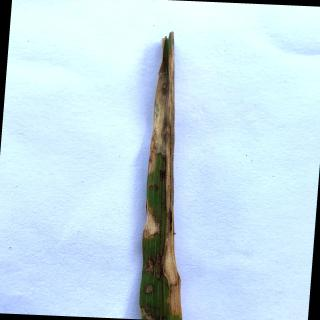Hawar-Daun: (147, 44, 175, 208), (163, 214, 182, 317), (141, 208, 161, 241), (145, 258, 162, 279), (144, 282, 156, 296), (140, 307, 152, 320)
